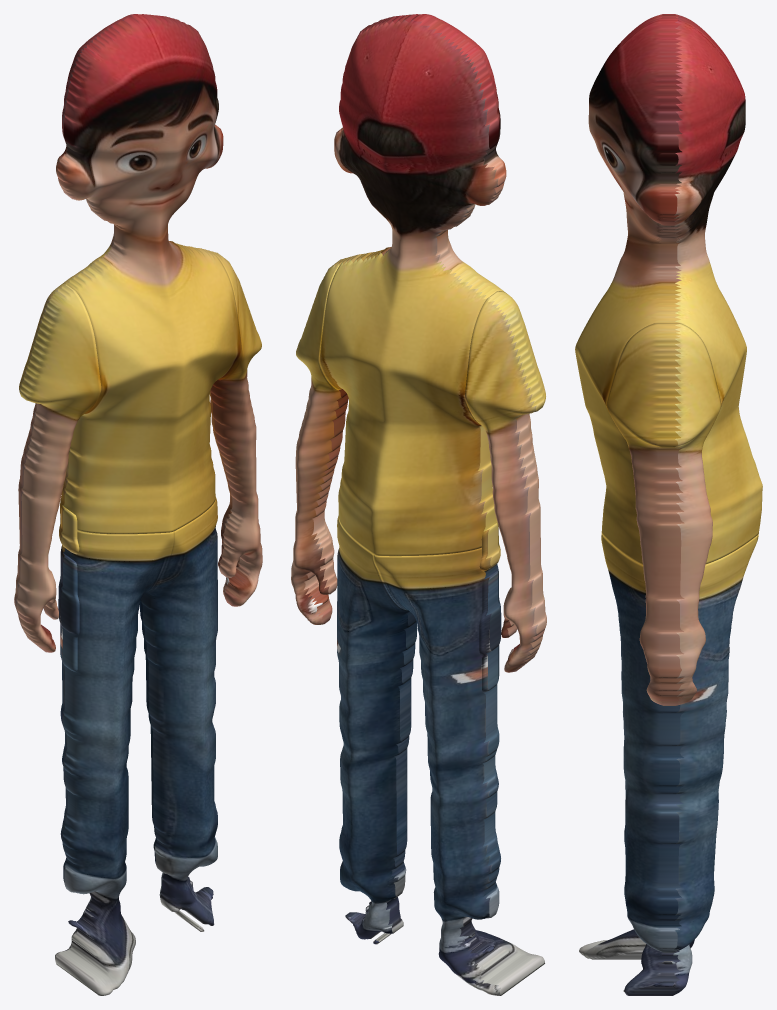
Rendered from kid3d.glb.
3 renders of one model, left to right at view 1: azimuth 30°, elevation 25°; view 2: azimuth 150°, elevation 25°; view 3: azimuth 270°, elevation 25°, orthographic. The views are drawn at different scales.
Parts seen in each view (by area): view 1: Body, LegL, LegR, ArmL, ArmR; view 2: Body, LegL, LegR, ArmL, ArmR; view 3: Body, LegR, ArmR, LegL.
Part boxes in pixels (bbox=[...]): Body: bbox=[56, 14, 242, 534]; LegL: bbox=[55, 517, 174, 995]; LegR: bbox=[140, 497, 217, 931]; ArmL: bbox=[14, 284, 101, 672]; ArmR: bbox=[209, 251, 262, 606]; Body: bbox=[319, 14, 506, 556]; LegL: bbox=[373, 536, 544, 995]; LegR: bbox=[337, 516, 417, 944]; ArmL: bbox=[465, 291, 546, 692]; ArmR: bbox=[291, 257, 348, 624]; Body: bbox=[575, 14, 762, 564]; LegR: bbox=[601, 535, 757, 995]; ArmR: bbox=[606, 323, 721, 705]; LegL: bbox=[579, 534, 758, 959].
Size of the model in its own units: 3.4 by 12.82 by 2.25.
Materials: 2 (2 with a texture image).
